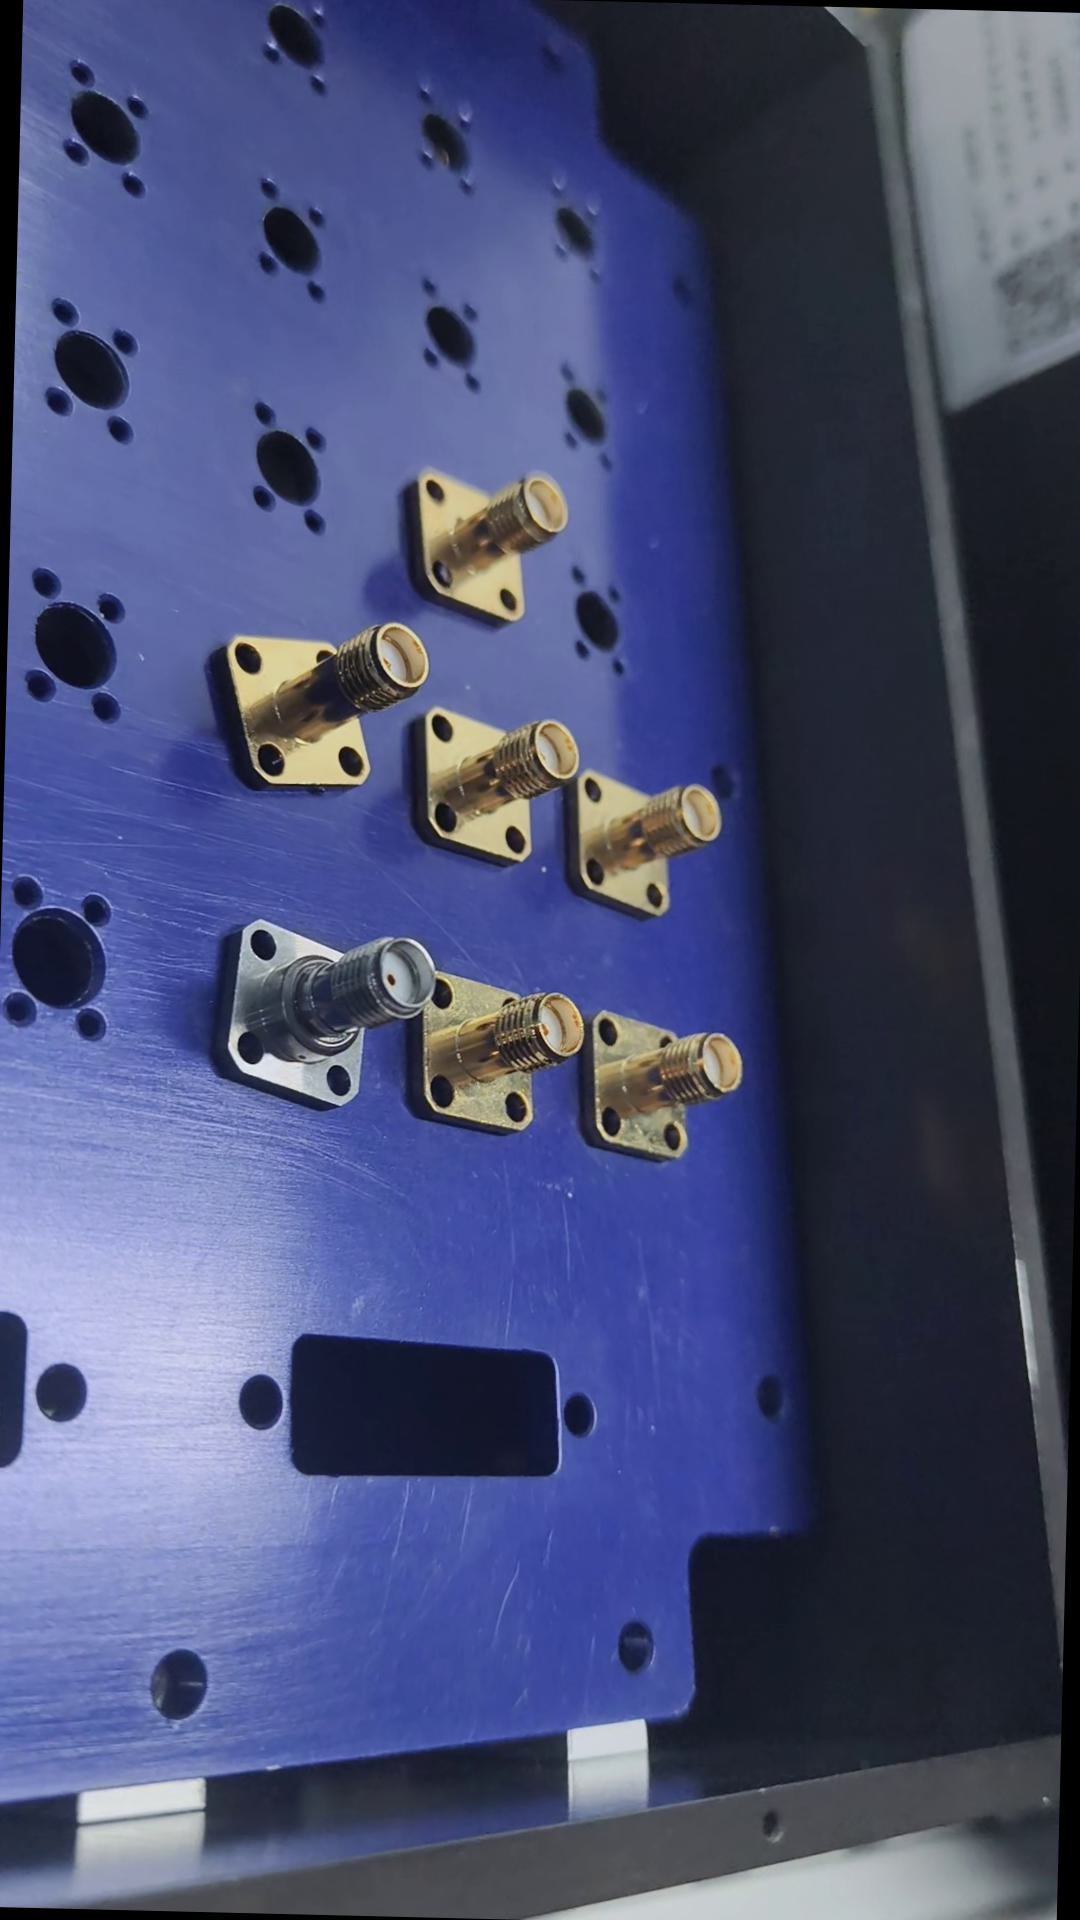SMA: (208, 916, 433, 1112), (215, 612, 427, 793), (414, 971, 584, 1137), (576, 1004, 745, 1168), (411, 708, 585, 862), (404, 465, 570, 618), (564, 767, 723, 918)
